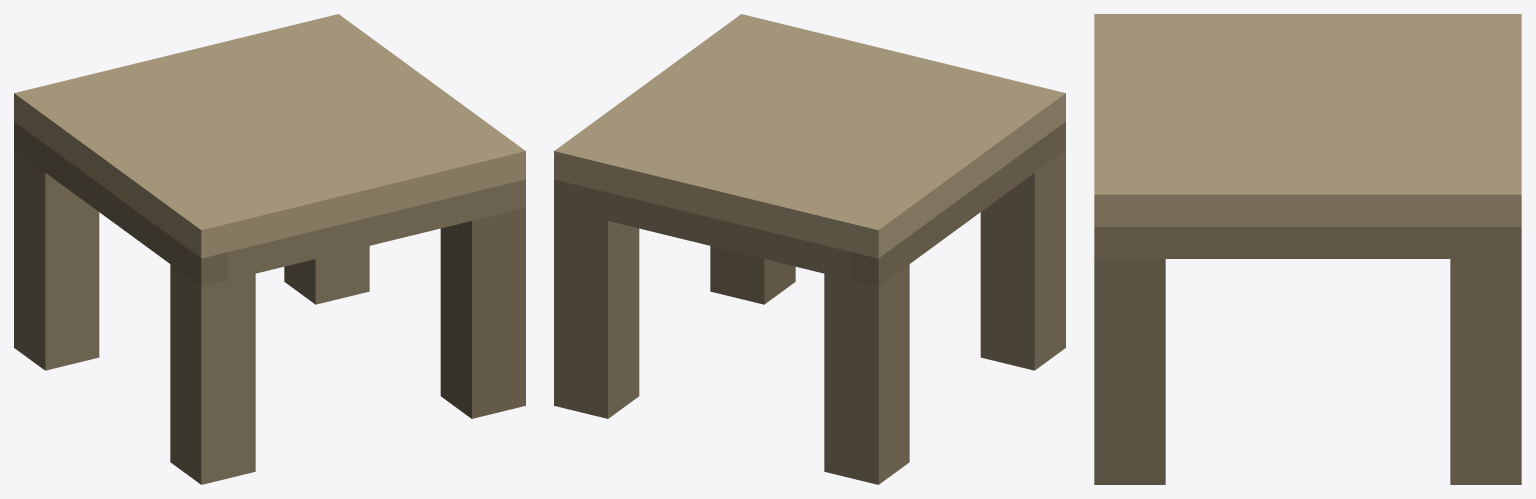
Rendered from mesa_talla_fina_desgastada_01.glb.
3 views of the same model, side by side, from view 1: azimuth 30°, elevation 25°; view 2: azimuth 150°, elevation 25°; view 3: azimuth 270°, elevation 25° (orthographic). The views are drawn at different scales.
Visible parts, largest first — view 1: mesa_talla_fina_desgastada; view 2: mesa_talla_fina_desgastada; view 3: mesa_talla_fina_desgastada.
Boxes of the visible parts, bbox=[...] form: mesa_talla_fina_desgastada: bbox=[14, 14, 525, 484]; mesa_talla_fina_desgastada: bbox=[554, 14, 1065, 484]; mesa_talla_fina_desgastada: bbox=[1094, 14, 1521, 484].
Size of the model in its own units: 1 by 0.75 by 1.
